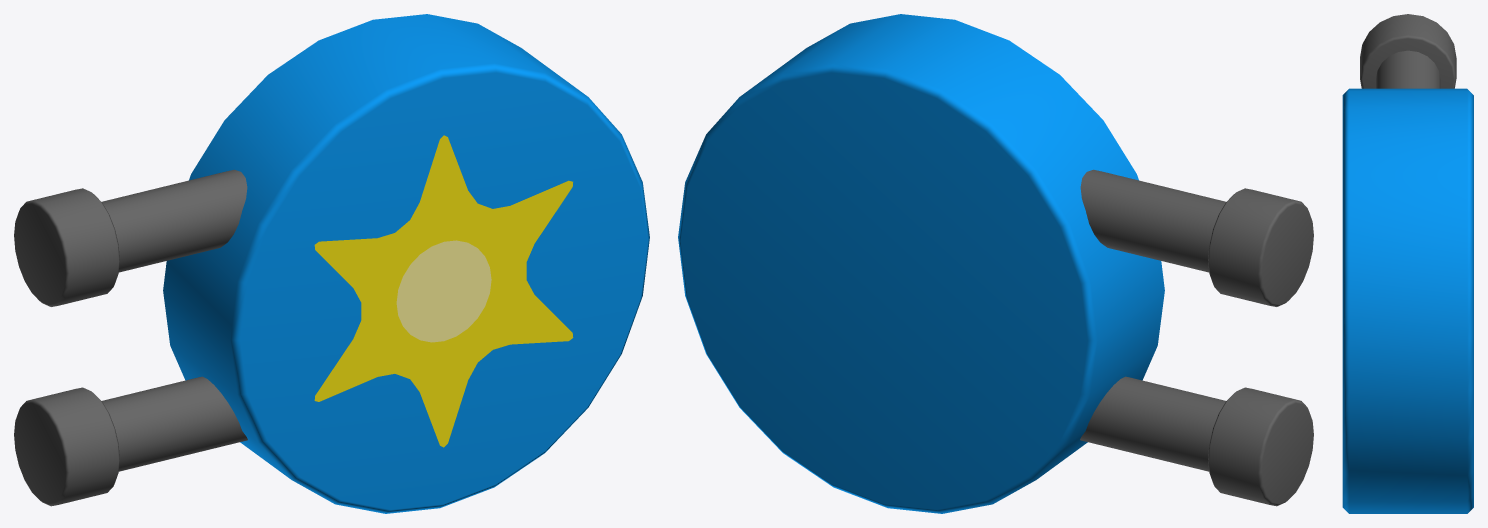
The model's file is Public_16_Police_Sign_1.glb.
The picture shows the model from 3 angles, left to right: view 1: azimuth 30°, elevation 25°; view 2: azimuth 150°, elevation 25°; view 3: azimuth 270°, elevation 25°; orthographic projection. The views are drawn at different scales.
Visible parts, largest first — view 1: Public_16_Police_Sign_1; view 2: Public_16_Police_Sign_1; view 3: Public_16_Police_Sign_1.
Boxes of the visible parts, x1,y1,x2,y2 form: Public_16_Police_Sign_1: [14, 14, 649, 513]; Public_16_Police_Sign_1: [678, 14, 1313, 513]; Public_16_Police_Sign_1: [1342, 14, 1473, 513].
Bounding box in the file's own units: 1.81 × 1.32 × 0.4064.
1 material, 1 textured.
